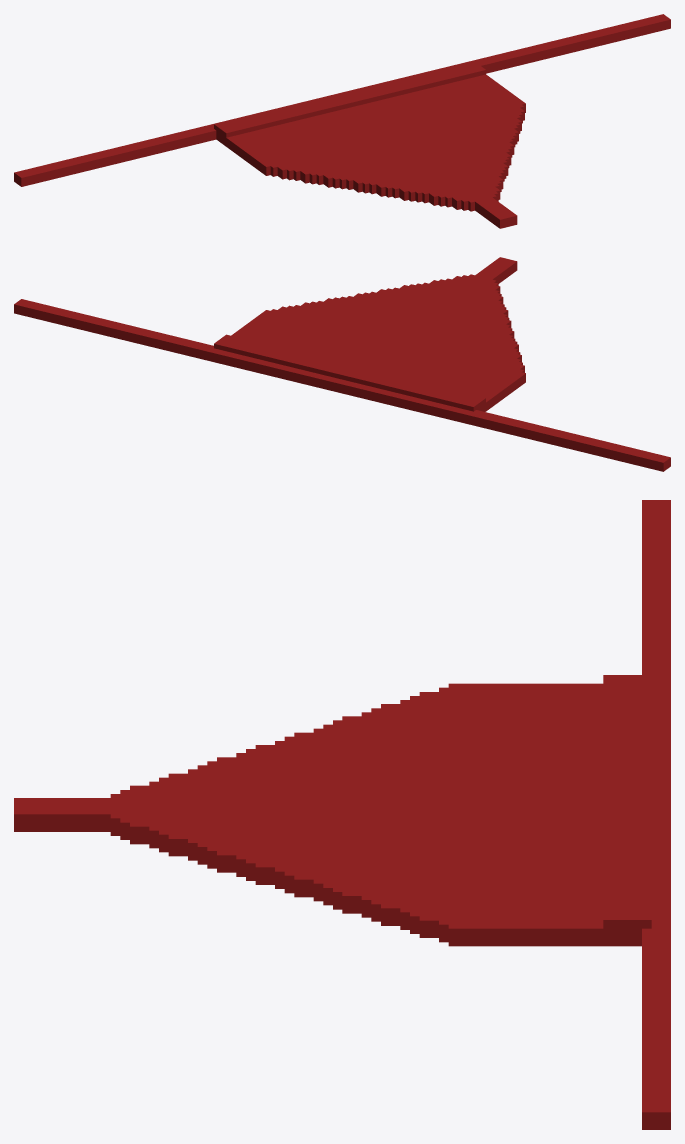
The model's file is bikini_bottom_short.glb.
The picture shows the model from 3 angles, top to bottom: view 1: azimuth 30°, elevation 25°; view 2: azimuth 150°, elevation 25°; view 3: azimuth 270°, elevation 25°; orthographic projection. The views are drawn at different scales.
Visible parts, largest first — view 1: bikini_bottom_short:compound; view 2: bikini_bottom_short:compound; view 3: bikini_bottom_short:compound.
Boxes of the visible parts, box(x1,y1,x2,y2) form: bikini_bottom_short:compound: box(14, 14, 670, 228); bikini_bottom_short:compound: box(14, 257, 670, 471); bikini_bottom_short:compound: box(14, 500, 670, 1129).
Size of the model in its own units: 0.3 by 0.006 by 0.136.
